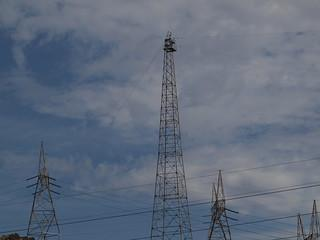power_tower: (153, 26, 193, 237)
